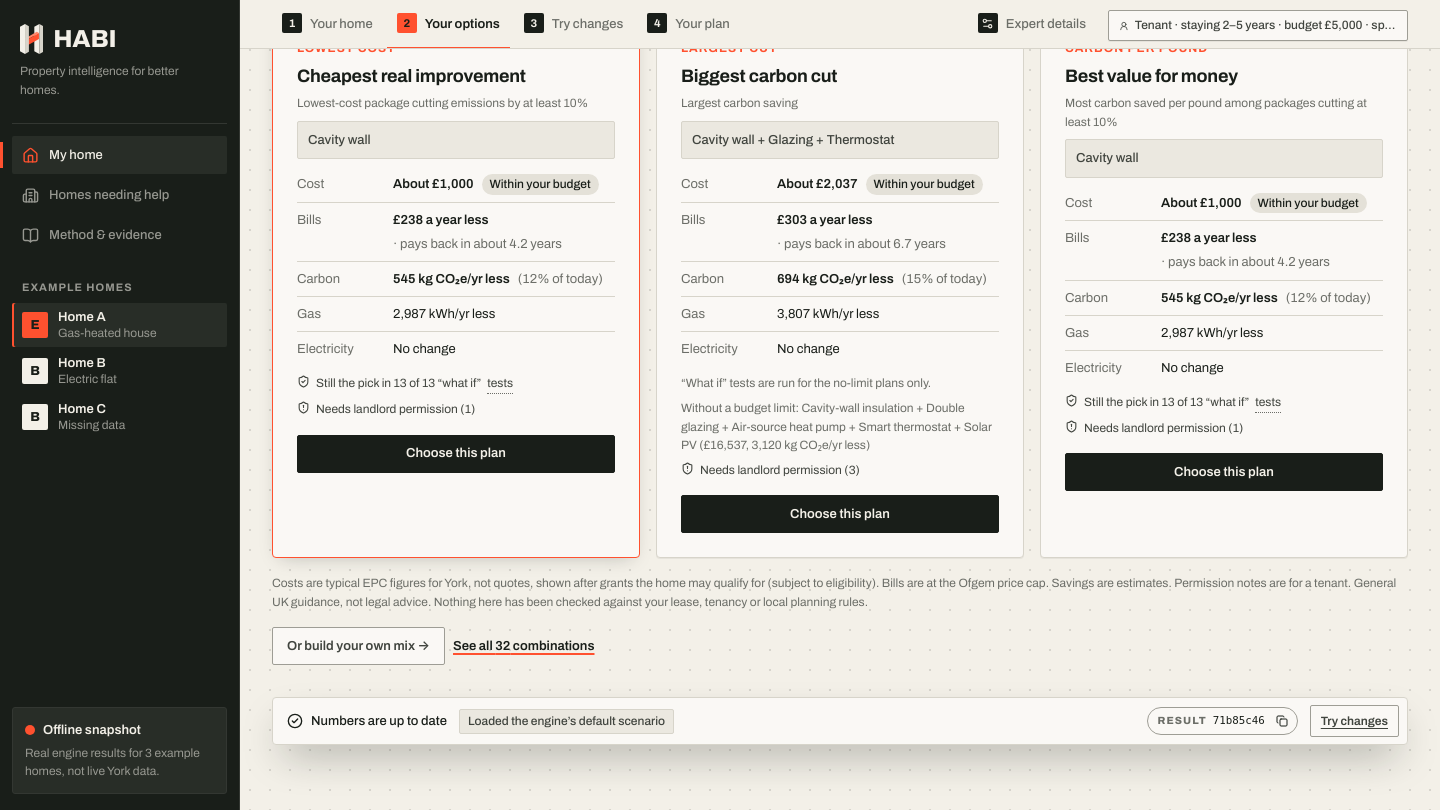
Test: step 2: your options › choosing a plan recalculates it and opens the plan check
(page scrolled)
Expected: the element named "Steps" is shown, [272,0,1096,48]
What coordinates should you click on to do the following:
click the 1st button "Choose this plan"
I would click on:
 (456, 454)
Its box is [297,434,615,472].
(page scrolled)
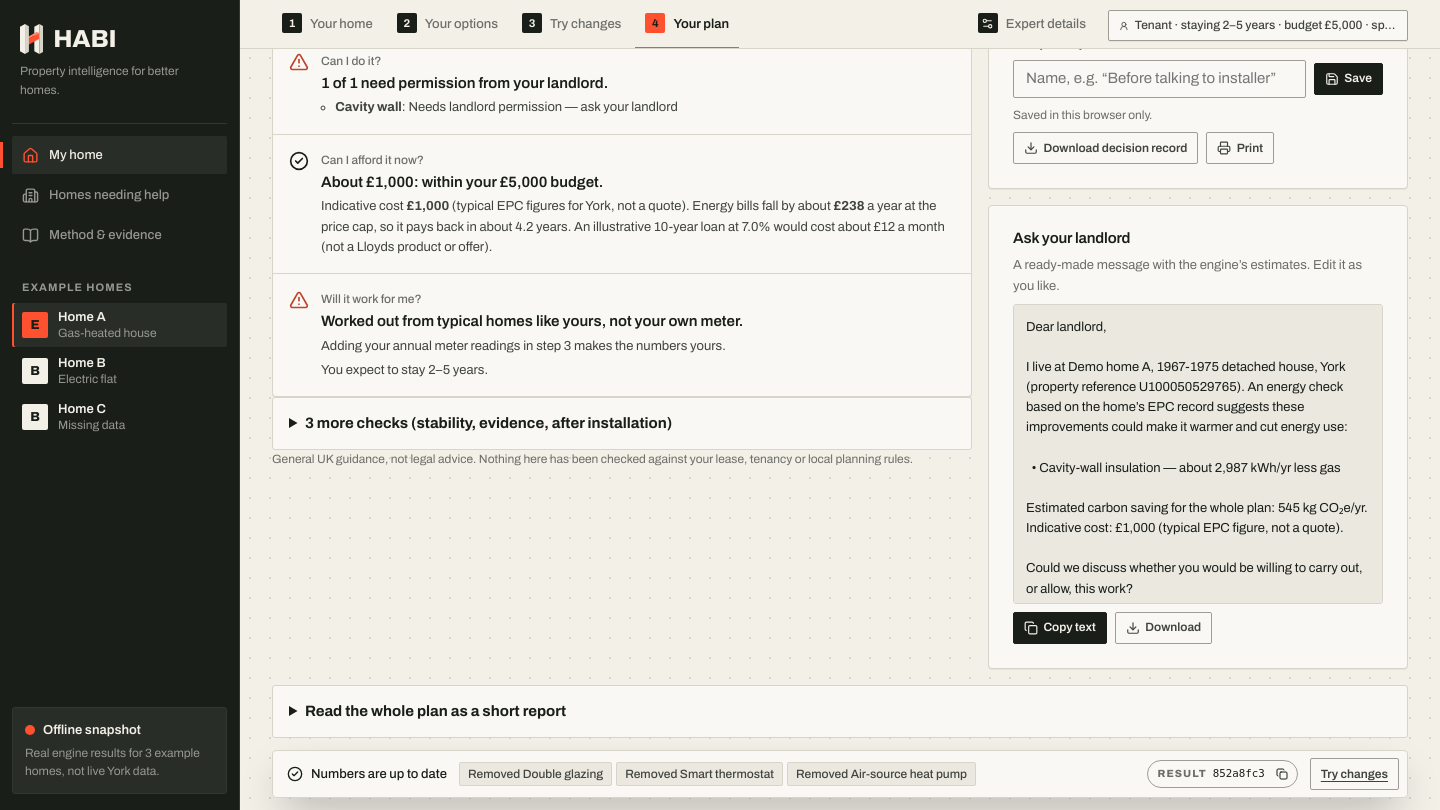
Result: the text "About £1,000: within your £5,000 budget." is shown at [321,174,603,190]
Result: the text "1 of 1 need permission from your landlord." is shown at [321,75,608,91]
